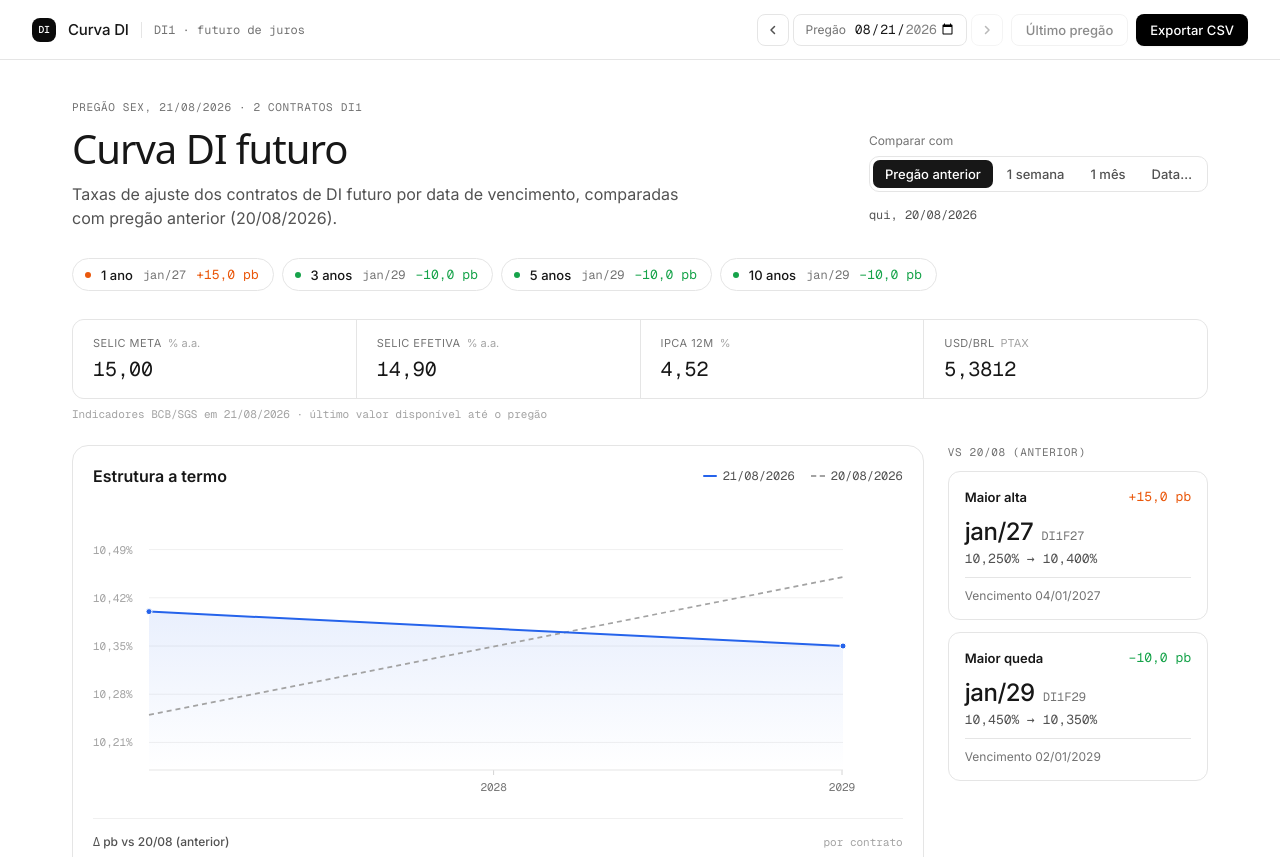
App › chevrons e Último pregão navegam entre pregões
Click the button named "Pregão anterior": click(773, 30) [757,14,789,46]
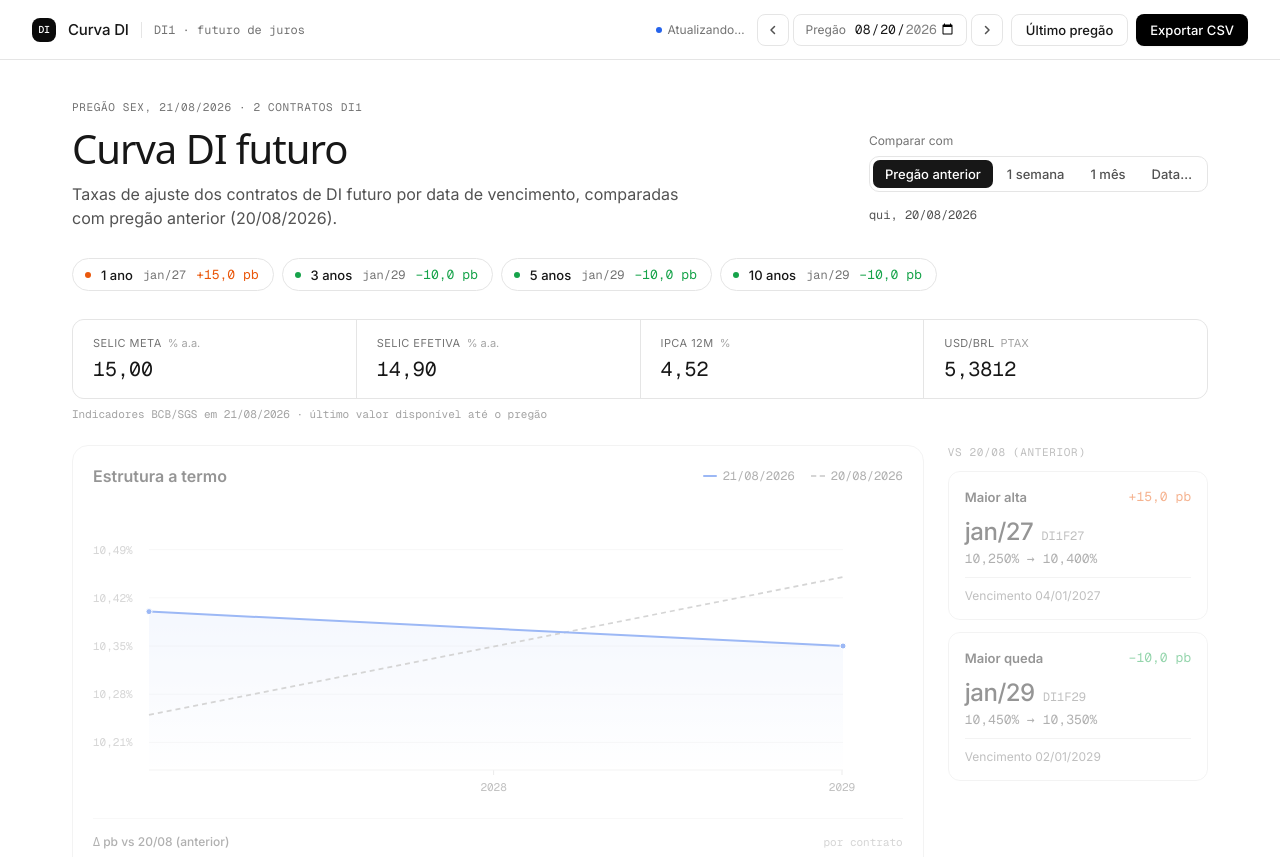
Now the date field labelled "Pregão" holds "2026-08-20", box [854,20,956,39]
Click the button "Último pregão": click(1070, 30) [1011,14,1128,46]
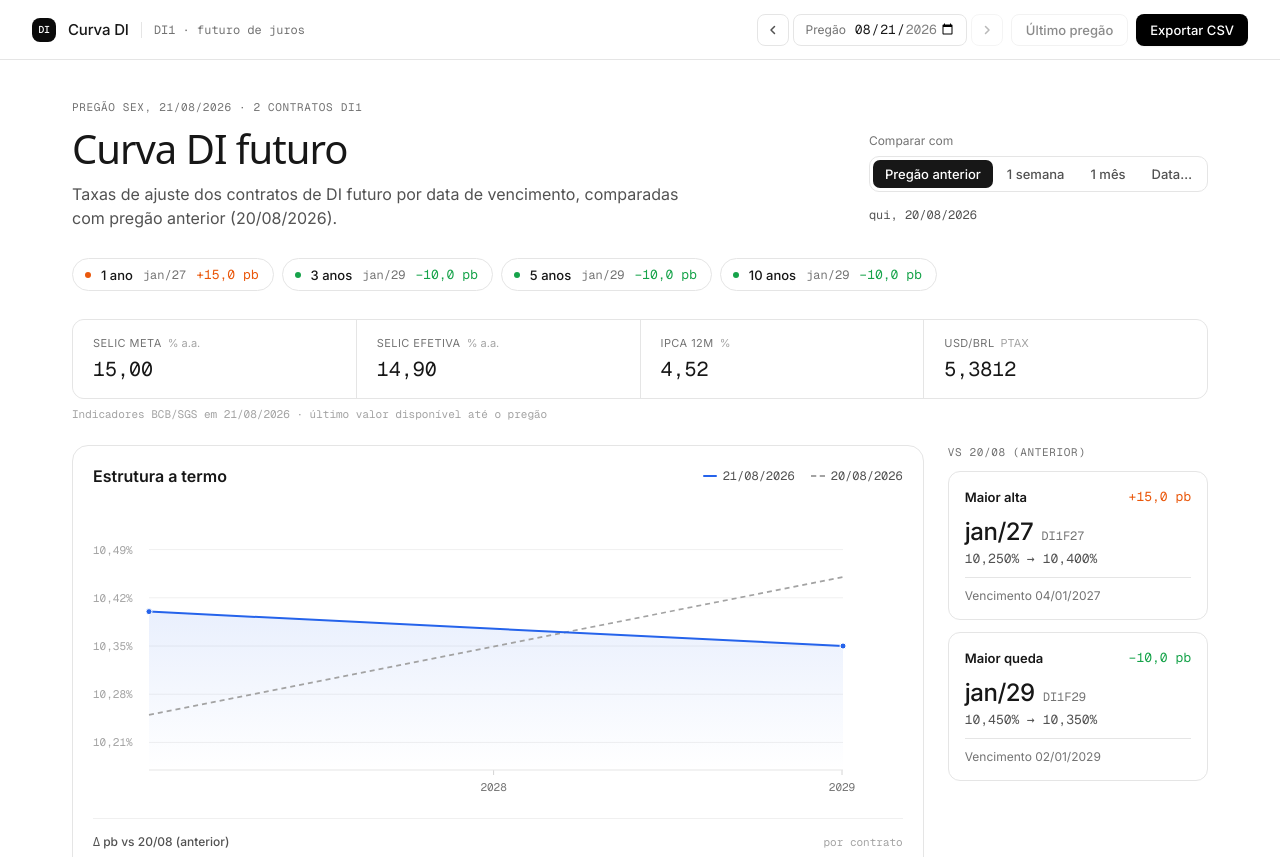
Now the date field labelled "Pregão" holds "2026-08-21", box [854,20,956,39]
